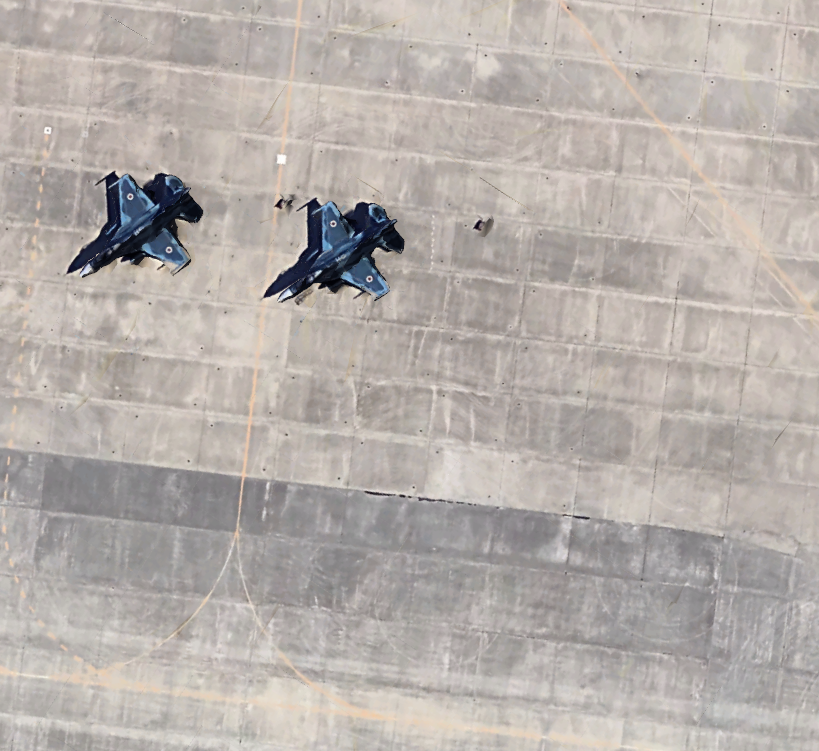A5: (69, 164, 211, 287), (268, 193, 410, 316)
